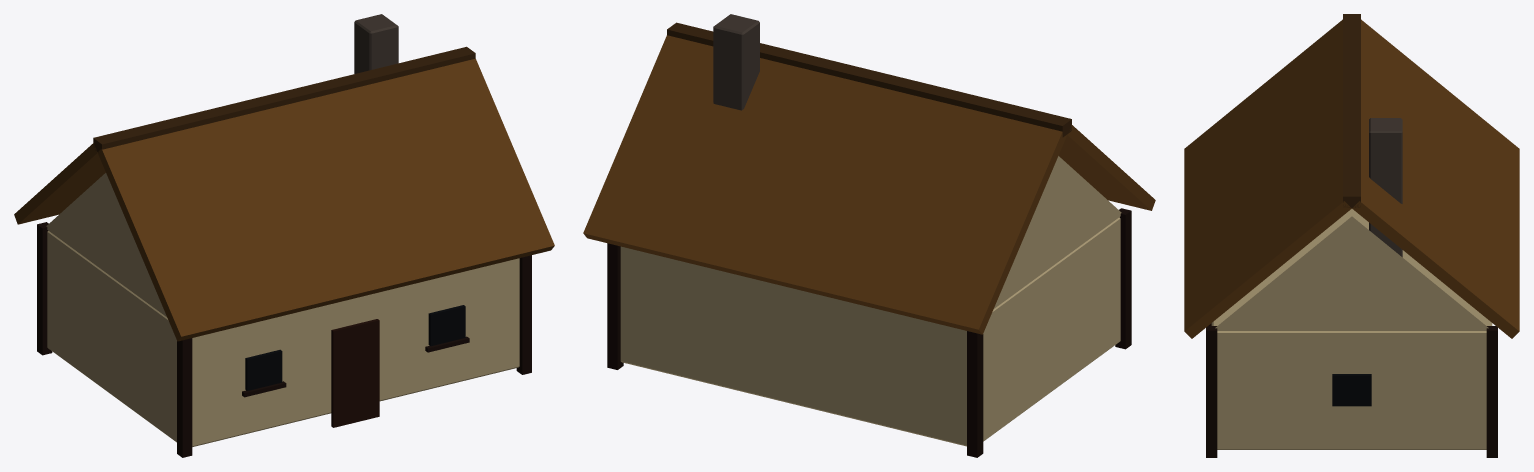
The model's file is house_cottage_posts.fbx.
3 renders of one model, left to right at view 1: azimuth 30°, elevation 25°; view 2: azimuth 150°, elevation 25°; view 3: azimuth 270°, elevation 25°, orthographic. The views are drawn at different scales.
Parts seen in each view (by area): view 1: house_cottage_posts; view 2: house_cottage_posts; view 3: house_cottage_posts.
Boxes of the visible parts, <box> form: house_cottage_posts: <box>14,14,554,457</box>; house_cottage_posts: <box>583,14,1155,457</box>; house_cottage_posts: <box>1184,14,1519,457</box>.
Bounding box in the file's own units: 7.7 × 6.07 × 5.97.
